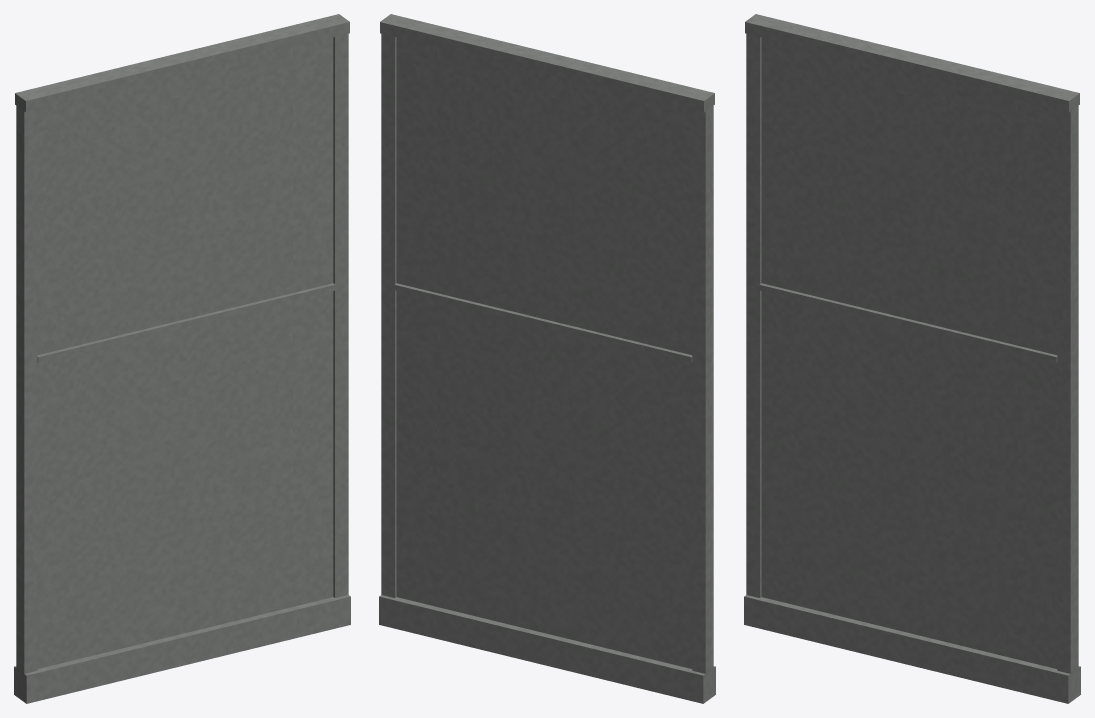
Rendered from X14_PART_Panel_Solid_120.glb.
The picture shows the model from 3 angles, left to right: view 1: azimuth 30°, elevation 25°; view 2: azimuth 150°, elevation 25°; view 3: azimuth 330°, elevation 25°; orthographic projection.
Parts seen in each view (by area): view 1: X14_PART_Panel_Solid_120_LOD0; view 2: X14_PART_Panel_Solid_120_LOD0; view 3: X14_PART_Panel_Solid_120_LOD0.
Boxes of the visible parts, x1,y1,x2,y2 form: X14_PART_Panel_Solid_120_LOD0: (14, 14, 350, 703); X14_PART_Panel_Solid_120_LOD0: (379, 14, 715, 703); X14_PART_Panel_Solid_120_LOD0: (744, 14, 1080, 703).
Size of what is drawn, in the model's own units: 1.2 by 2.13 by 0.08.
1 material, 1 textured.
